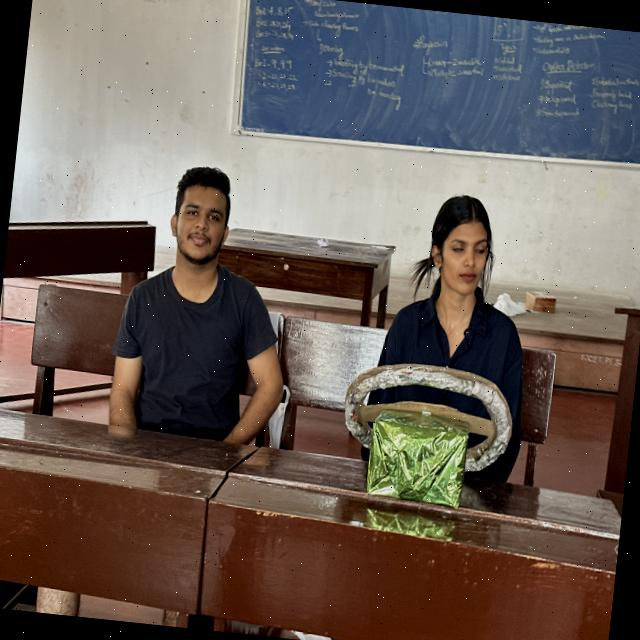Helmet: (105, 260, 294, 453), (364, 285, 536, 490)
